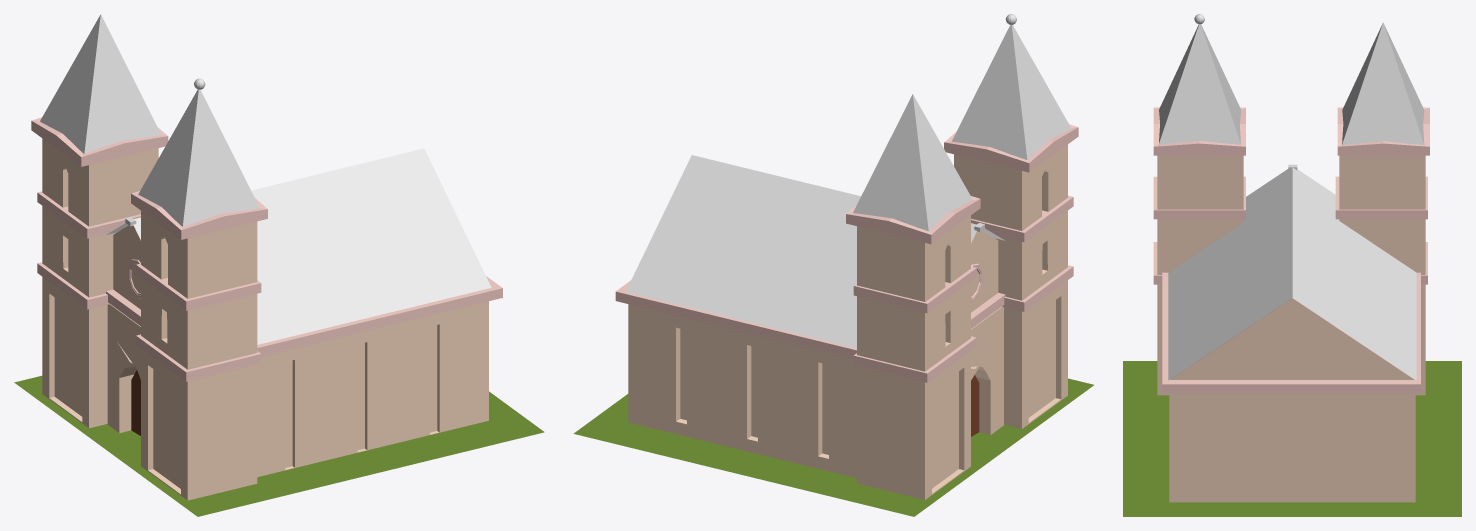
File: churchblend.fbx
3 views of the same model, side by side, from view 1: azimuth 30°, elevation 25°; view 2: azimuth 150°, elevation 25°; view 3: azimuth 270°, elevation 25° (orthographic). The views are drawn at different scales.
Visible parts, largest first — view 1: roof, Cube, Cube.002, Cube.001, Plane.001, Cone, Cone.001, Cube.003, Cube.009, Cube.008, Plane, Cube.004 (+3 smaller); view 2: Cube, roof, Cube.001, Cube.002, Plane.001, Cone, Cone.001, Cube.003, Cube.009, Cube.008, Plane, Cube.006 (+3 smaller); view 3: roof, Cube, Plane.001, Plane, Cube.002, Cube.001, Cone, Cone.001, Cube.003, Cube.008, Cube.009, Cube.004 (+1 smaller).
Part boxes in pixels (box(x1,y1,x2,y2)): roof: box(106, 148, 491, 344); Cube: box(107, 301, 488, 476); Cube.002: box(141, 211, 257, 500); Cube.001: box(42, 138, 158, 428); Plane.001: box(14, 375, 544, 516); Cone: box(40, 14, 161, 153); Cone.001: box(138, 89, 259, 226); Cube.003: box(106, 276, 502, 356); Cube.009: box(31, 117, 168, 166); Cube.008: box(131, 191, 267, 239); Plane: box(113, 225, 140, 309); Cube.004: box(136, 263, 261, 310); Cube: box(628, 304, 1003, 477); roof: box(625, 155, 1005, 348); Cube.001: box(857, 215, 970, 499); Cube.002: box(954, 144, 1067, 428); Plane.001: box(573, 378, 1093, 516); Cone: box(853, 94, 972, 231); Cone.001: box(951, 25, 1070, 159); Cube.003: box(615, 280, 1005, 358); Cube.009: box(846, 196, 980, 244); Cube.008: box(944, 124, 1078, 172); Plane: box(971, 231, 998, 312); Cube.006: box(853, 266, 976, 313); roof: box(1168, 167, 1416, 380); Cube: box(1169, 393, 1415, 502); Plane.001: box(1123, 361, 1461, 516); Plane: box(1170, 298, 1414, 379); Cube.002: box(1157, 155, 1243, 395); Cube.001: box(1339, 155, 1425, 395); Cone: box(1342, 22, 1424, 144); Cone.001: box(1159, 24, 1240, 144); Cube.003: box(1162, 272, 1420, 393); Cube.008: box(1153, 107, 1245, 155); Cube.009: box(1337, 107, 1429, 155); Cube.004: box(1153, 176, 1245, 219).
Bounding box in the file's own units: 600 × 664 × 550.
